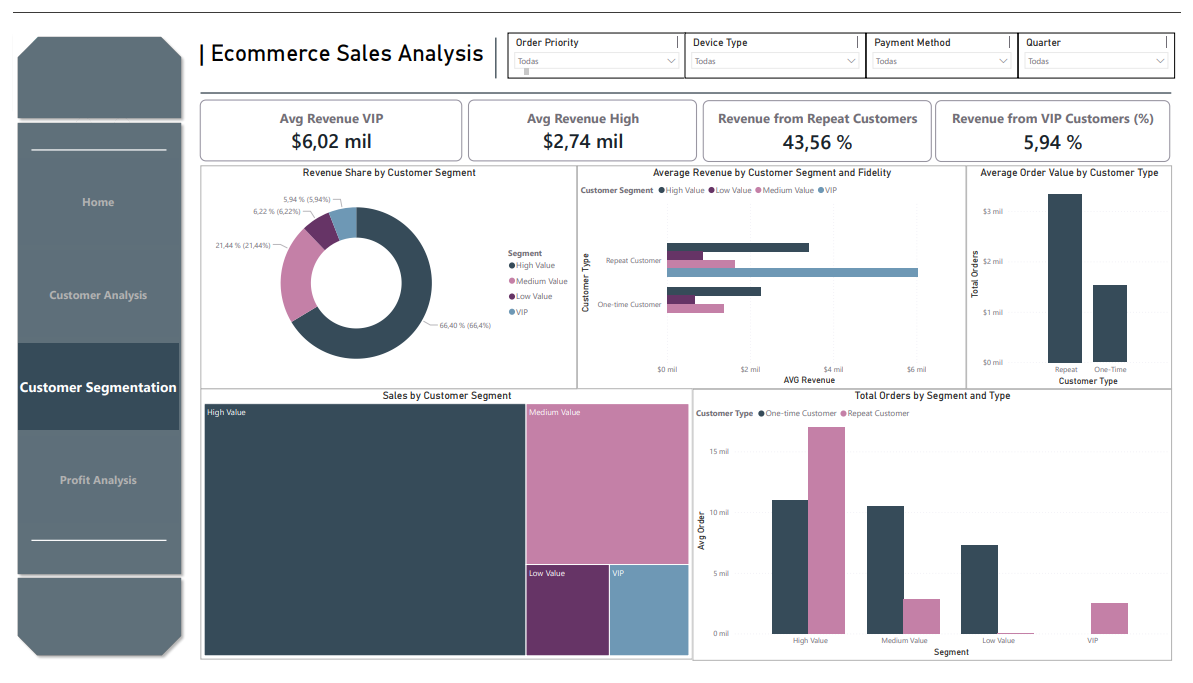

What the dashboard file says about the page in this screenshot:
{"tool":"powerbi","page":{"name":"Customer Segmentation","canvas":[1920,1080],"ordinal":2},"visuals":[{"type":"clusteredBarChart","title":"Average Revenue by Customer Segment and Fidelity","fields":{"Category":["Customer_Summary.Customer Type"],"Series":["Customer_Summary.Customer Segment"],"Y":["Customer_Summary.Avg Total Sales per Customer"]},"box":[927.7,251,640.4,367.4],"z":0},{"type":"treemap","title":"Sales by Customer Segment","fields":{"Values":["Sum(ecomm.Sales)"],"Group":["Customer_Summary.Customer Segment"]},"box":[309.2,617.1,808.6,445.1],"z":1000},{"type":"donutChart","title":"Revenue Share by Customer Segment","fields":{"Y":["ecomm.Revenue Share %"],"Category":["Customer_Summary.Customer Segment"]},"box":[309.2,251,618.4,367.4],"z":2000},{"type":"slicer","fields":{"Values":["Calendar.Quarter"]},"box":[1653.3,33.3,258,74.5],"z":3000},{"type":"slicer","fields":{"Values":["ecomm.Order_Priority"]},"box":[814,33.3,292.6,74.5],"z":4000},{"type":"slicer","fields":{"Values":["ecomm.Payment_method"]},"box":[1403.2,33.3,250,74.5],"z":5000},{"type":"slicer","fields":{"Values":["ecomm.Device_Type"]},"box":[1105.3,33.3,297.9,74.5],"z":6000},{"type":"textbox","title":"| Ecommerce Sales Analysis","box":[301.9,43.9,552,63.8],"z":7000},{"type":"shape","box":[308.6,122.4,1596.1,20],"z":8000},{"type":"shape","box":[779.4,41.2,30.6,66.5],"z":9000},{"type":"image","box":[39.9,65.2,204.8,135.7],"z":10000},{"type":"shape","box":[30.6,239.4,222.1,22.6],"z":11000},{"type":"shape","box":[30.6,867.2,222.1,22.6],"z":12000},{"type":"pageNavigator","box":[9.3,290,264.7,577.2],"z":13000},{"type":"shape","box":[0,171.6,284.6,759.5],"z":14000},{"type":"shape","box":[0,31.9,284.6,150.3],"z":15000},{"type":"shape","box":[0,920.4,284.6,143.6],"z":16000},{"type":"shape","box":[30.6,214.1,222.1,22.6],"z":17000},{"type":"shape","box":[30.6,855.2,222.1,22.6],"z":18000},{"type":"pageNavigator","box":[9.3,239.4,264.7,599.9],"z":19000},{"type":"cardVisual","fields":{"Data":["ecomm.Avg Revenue VIP"]},"box":[291.3,126.4,465.5,135.7],"z":21000},{"type":"cardVisual","fields":{"Data":["ecomm.Avg Revenue High"]},"box":[731.5,126.4,411,135.7],"z":22000},{"type":"cardVisual","fields":{"Data":["Customer_Summary.Revenue from Repeat Customers (%)"]},"box":[1117.8,126.8,410.1,135.8],"z":23000},{"type":"cardVisual","fields":{"Data":["Customer_Summary.Revenue from VIP Customers (%)"]},"box":[1499.5,126.8,420.5,135.8],"z":24000},{"type":"clusteredColumnChart","title":"Total Orders by Segment and Type","fields":{"Category":["Customer_Summary.Customer Segment"],"Series":["Customer_Summary.Customer Type"],"Y":["Sum(Customer_Summary.total_orders)"]},"box":[1117.8,618.4,787.9,445.1],"z":25000},{"type":"columnChart","title":"Average Order Value by Customer Type","fields":{"Category":["ecomm.Customer Type"],"Y":["Customer_Summary.Avg Total Sales per Customer"]},"box":[1568.1,251,337.7,367.4],"z":26000}]}

Visuals, with their boxes in screenshot pixels (x1, y1, x2, y2), scaled from the page's 1920x1080 canvas onto the 1193x683 screenshot:
"Average Revenue by Customer Segment and Fidelity" clusteredBarChart: box=[576, 159, 974, 391]
"Sales by Customer Segment" treemap: box=[192, 390, 695, 672]
"Revenue Share by Customer Segment" donutChart: box=[192, 159, 576, 391]
slicer - Calendar.Quarter: box=[1027, 21, 1188, 68]
slicer - ecomm.Order_Priority: box=[506, 21, 688, 68]
slicer - ecomm.Payment_method: box=[872, 21, 1027, 68]
slicer - ecomm.Device_Type: box=[687, 21, 872, 68]
"| Ecommerce Sales Analysis" textbox: box=[188, 28, 531, 68]
shape: box=[192, 77, 1183, 90]
shape: box=[484, 26, 503, 68]
image: box=[25, 41, 152, 127]
shape: box=[19, 151, 157, 166]
shape: box=[19, 548, 157, 563]
pageNavigator: box=[6, 183, 170, 548]
shape: box=[0, 109, 177, 589]
shape: box=[0, 20, 177, 115]
shape: box=[0, 582, 177, 673]
shape: box=[19, 135, 157, 150]
shape: box=[19, 541, 157, 555]
pageNavigator: box=[6, 151, 170, 531]
cardVisual - ecomm.Avg Revenue VIP: box=[181, 80, 470, 166]
cardVisual - ecomm.Avg Revenue High: box=[455, 80, 710, 166]
cardVisual - Customer_Summary.Revenue from Repeat Customers (%): box=[695, 80, 949, 166]
cardVisual - Customer_Summary.Revenue from VIP Customers (%): box=[932, 80, 1192, 166]
"Total Orders by Segment and Type" clusteredColumnChart: box=[695, 391, 1184, 673]
"Average Order Value by Customer Type" columnChart: box=[974, 159, 1184, 391]
